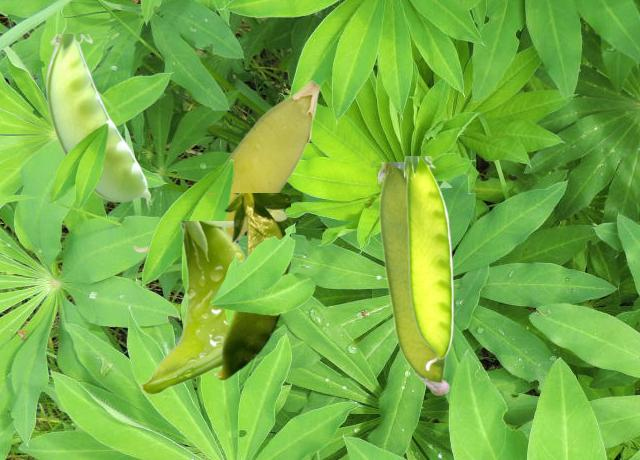pea: (133, 80, 319, 252), (45, 34, 149, 211), (139, 221, 244, 393), (378, 162, 449, 394), (209, 193, 289, 379), (404, 156, 452, 370)
